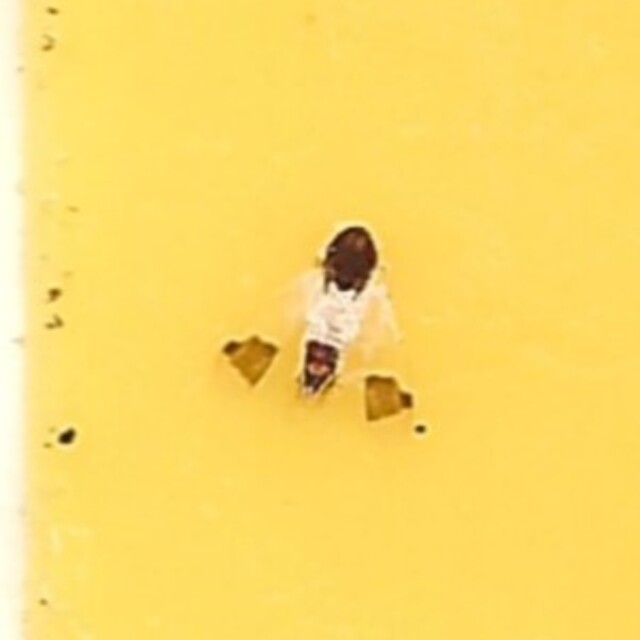Hemiptera: (213, 221, 427, 419)
